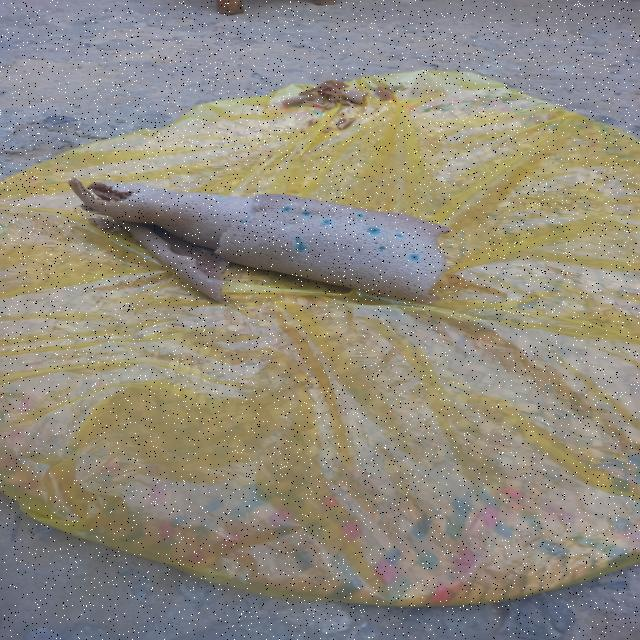injera_mold: (292, 236, 309, 252), (366, 226, 381, 235), (240, 216, 253, 226), (282, 204, 292, 213), (300, 209, 310, 218), (409, 253, 420, 261), (375, 245, 387, 252), (322, 219, 333, 226), (198, 248, 209, 253), (210, 196, 226, 199), (395, 233, 404, 238), (356, 212, 363, 218), (297, 197, 304, 201), (208, 279, 213, 284), (253, 200, 259, 204), (346, 207, 358, 209), (324, 202, 330, 205), (400, 220, 405, 222), (335, 205, 343, 206), (395, 219, 399, 221), (377, 212, 381, 212)
